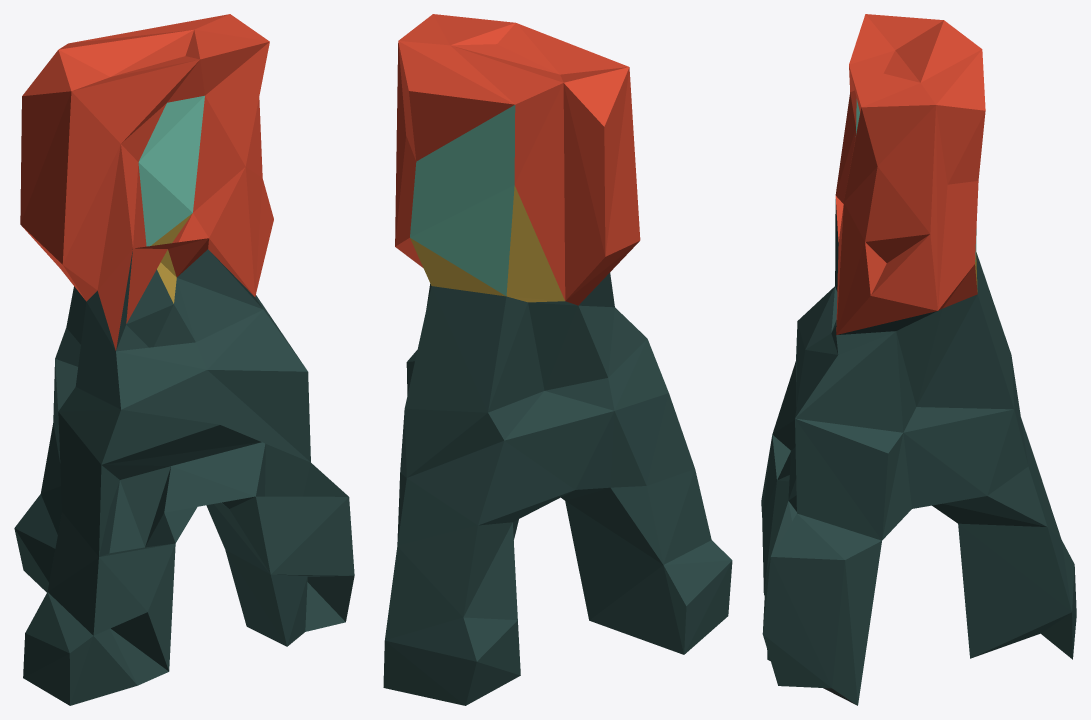
Rendered from trial_w12_beacon.glb.
3 views of the same model, side by side, from view 1: azimuth 30°, elevation 25°; view 2: azimuth 150°, elevation 25°; view 3: azimuth 270°, elevation 25° (orthographic).
Parts seen in each view (by area): view 1: trial_beacon; view 2: trial_beacon; view 3: trial_beacon.
Boxes of the visible parts, box(x1,y1,x2,y2) form: trial_beacon: box(14, 14, 354, 705); trial_beacon: box(383, 14, 732, 705); trial_beacon: box(761, 14, 1076, 705).
Size of the model in its own units: 11.1 by 21.5 by 10.48.
